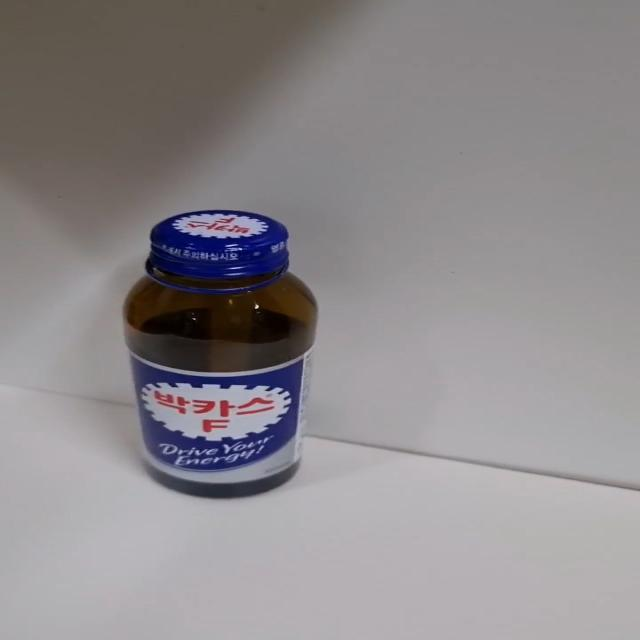Glass: (119, 209, 320, 501)
